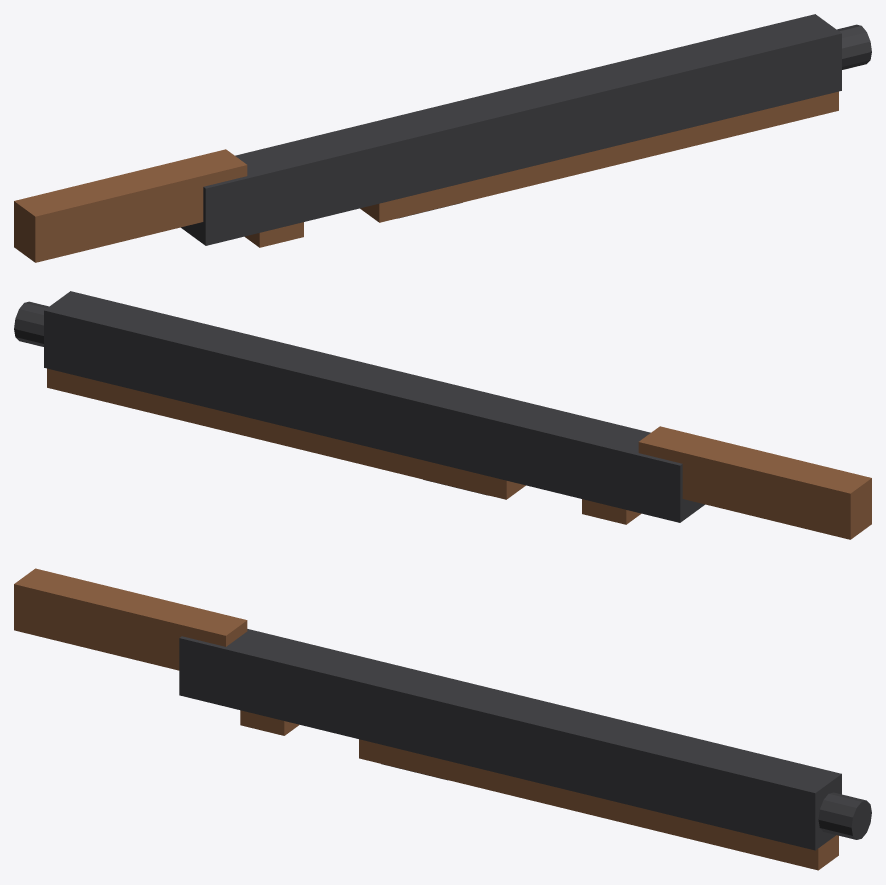
The model's file is SM_Wpn_Shotgun.fbx.
The picture shows the model from 3 angles, top to bottom: view 1: azimuth 30°, elevation 25°; view 2: azimuth 150°, elevation 25°; view 3: azimuth 330°, elevation 25°; orthographic projection.
Parts seen in each view (by area): view 1: SM_Wpn_Shotgun; view 2: SM_Wpn_Shotgun; view 3: SM_Wpn_Shotgun.
Part boxes in pixels (<box>): SM_Wpn_Shotgun: <box>14,14,871,262</box>; SM_Wpn_Shotgun: <box>14,291,871,539</box>; SM_Wpn_Shotgun: <box>14,568,871,870</box>.
Size of the model in its own units: 94.75 by 5.2 by 10.1.
